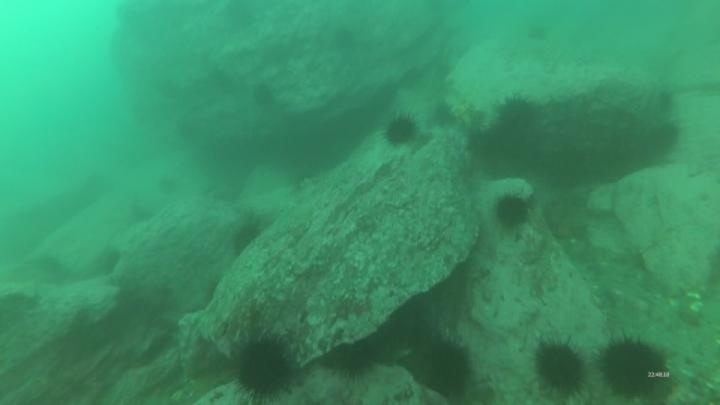echinus: (595, 332, 675, 402), (229, 331, 300, 402), (415, 334, 477, 400), (530, 336, 589, 398), (490, 94, 543, 147), (328, 338, 381, 381), (227, 217, 266, 258), (492, 192, 532, 231), (643, 119, 682, 158), (381, 113, 420, 149), (250, 81, 278, 110), (429, 100, 457, 129), (652, 87, 678, 116), (524, 21, 551, 44)
